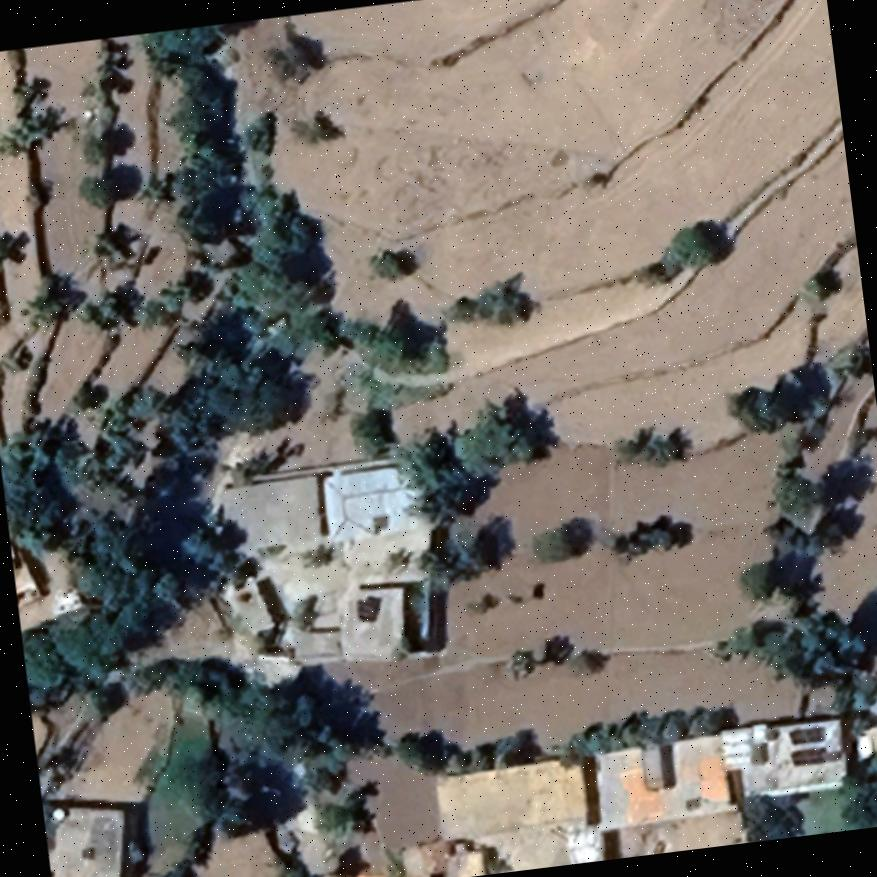Solarpanel: (784, 741, 846, 770), (783, 721, 831, 748), (352, 590, 384, 624)
